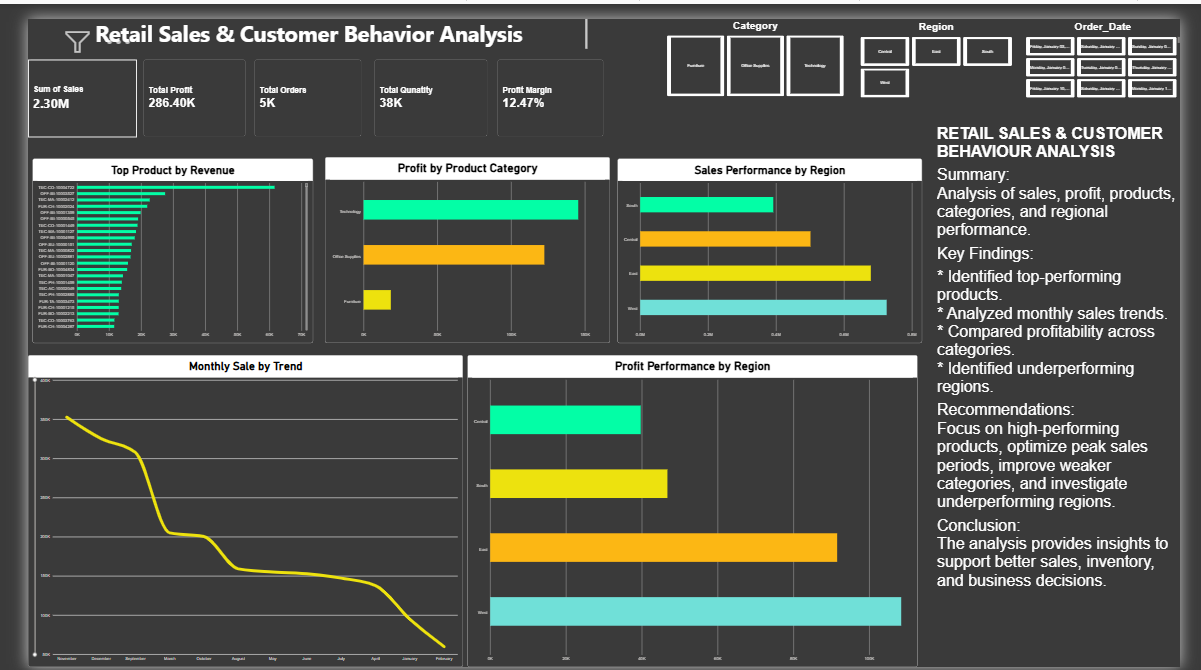

What the dashboard file says about the page in this screenshot:
{"tool":"powerbi","page":{"name":"Page 1","canvas":[3840,2160],"ordinal":0},"visuals":[{"type":"cardVisual","title":"SUM OF SALES","fields":{"Data":["Sum(RetailAndCustomerBehaviourAnalysis1.Sales)"]},"box":[0,136.7,363.3,256.7],"z":0},{"type":"textbox","box":[0,0,1865,105],"z":1000},{"type":"cardVisual","fields":{"Data":["RetailAndCustomerBehaviourAnalysis1.Total Profit"]},"box":[386.7,136.7,340,256.7],"z":2000},{"type":"cardVisual","fields":{"Data":["RetailAndCustomerBehaviourAnalysis1.Total Orders"]},"box":[756.7,136.7,356.7,256.7],"z":3000},{"type":"cardVisual","fields":{"Data":["RetailAndCustomerBehaviourAnalysis1.Total Qunatity"]},"box":[1153.3,136.7,376.7,256.7],"z":4000},{"type":"cardVisual","fields":{"Data":["RetailAndCustomerBehaviourAnalysis1.Profit Margin"]},"box":[1566.7,136.7,353.3,256.7],"z":5000},{"type":"clusteredBarChart","title":"Top Product by Revenue","fields":{"Category":["RetailAndCustomerBehaviourAnalysis1.Product_ID"],"Y":["RetailAndCustomerBehaviourAnalysis1.Total Sales"]},"box":[15,465,935,615],"z":6000},{"type":"lineChart","title":"Monthly Sale by Trend","fields":{"Category":["RetailAndCustomerBehaviourAnalysis1.Month"],"Y":["RetailAndCustomerBehaviourAnalysis1.Total Sales"]},"box":[0,1120,1450,1040],"z":7000},{"type":"clusteredBarChart","title":"Sales Performance by  Region","fields":{"Category":["RetailAndCustomerBehaviourAnalysis1.Region"],"Y":["RetailAndCustomerBehaviourAnalysis1.Total Sales"]},"box":[1965,465,1015,615],"z":8000},{"type":"clusteredBarChart","title":"Profit by Product Category","fields":{"Category":["RetailAndCustomerBehaviourAnalysis1.Category"],"Y":["RetailAndCustomerBehaviourAnalysis1.Total Profit"]},"box":[990,460,950,620],"z":9000},{"type":"clusteredBarChart","title":"Profit Performance by Region ","fields":{"Category":["RetailAndCustomerBehaviourAnalysis1.Region"],"Y":["RetailAndCustomerBehaviourAnalysis1.Total Profit"]},"box":[1466.7,1122.2,1500,1040],"z":10000},{"type":"textbox","box":[3027.8,350,816.7,1811.1],"z":11000},{"type":"advancedSlicerVisual","fields":{"Values":["RetailAndCustomerBehaviourAnalysis1.Order_Date"]},"box":[3326.3,5.3,515.8,257.9],"z":12000},{"type":"advancedSlicerVisual","fields":{"Values":["RetailAndCustomerBehaviourAnalysis1.Region"]},"box":[2773.7,5.3,505.3,257.9],"z":13000},{"type":"advancedSlicerVisual","fields":{"Values":["RetailAndCustomerBehaviourAnalysis1.Category"]},"box":[2130,0,589.5,257.9],"z":14000}]}

Visuals, with their boxes in screenshot pixels (x1, y1, x2, y2), scaled from the page's 3840x2160 canvas onto the 1201x670 screenshot:
"SUM OF SALES" cardVisual: crop(0, 42, 114, 122)
textbox: crop(0, 0, 583, 33)
cardVisual - RetailAndCustomerBehaviourAnalysis1.Total Profit: crop(121, 42, 227, 122)
cardVisual - RetailAndCustomerBehaviourAnalysis1.Total Orders: crop(237, 42, 348, 122)
cardVisual - RetailAndCustomerBehaviourAnalysis1.Total Qunatity: crop(361, 42, 479, 122)
cardVisual - RetailAndCustomerBehaviourAnalysis1.Profit Margin: crop(490, 42, 600, 122)
"Top Product by Revenue" clusteredBarChart: crop(5, 144, 297, 335)
"Monthly Sale by Trend" lineChart: crop(0, 347, 454, 669)
"Sales Performance by  Region" clusteredBarChart: crop(615, 144, 932, 335)
"Profit by Product Category" clusteredBarChart: crop(310, 143, 607, 335)
"Profit Performance by Region " clusteredBarChart: crop(459, 348, 928, 669)
textbox: crop(947, 109, 1200, 669)
advancedSlicerVisual - RetailAndCustomerBehaviourAnalysis1.Order_Date: crop(1040, 2, 1200, 82)
advancedSlicerVisual - RetailAndCustomerBehaviourAnalysis1.Region: crop(868, 2, 1026, 82)
advancedSlicerVisual - RetailAndCustomerBehaviourAnalysis1.Category: crop(666, 0, 851, 80)
